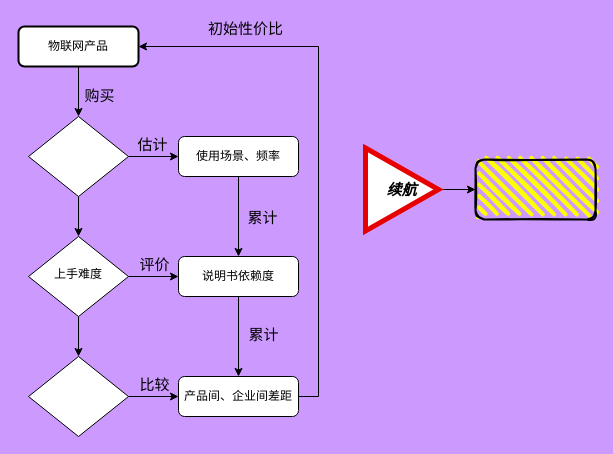
This 613x454 diagram has some shape labels left out. Here are the shapes that lost their labels. From the top down, the centre of each, then its label:
At point 78,156: "实用性".
At point 535,189: "初步印象".
At point 78,396: "整体价格".
